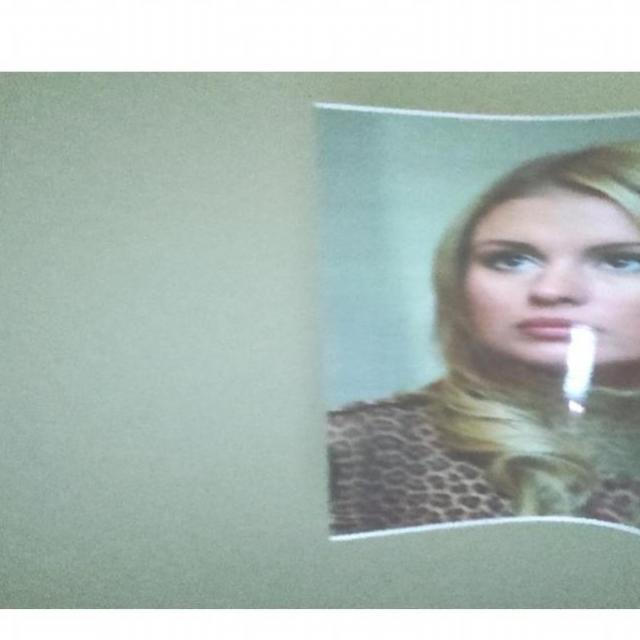photo: (306, 92, 640, 597)
